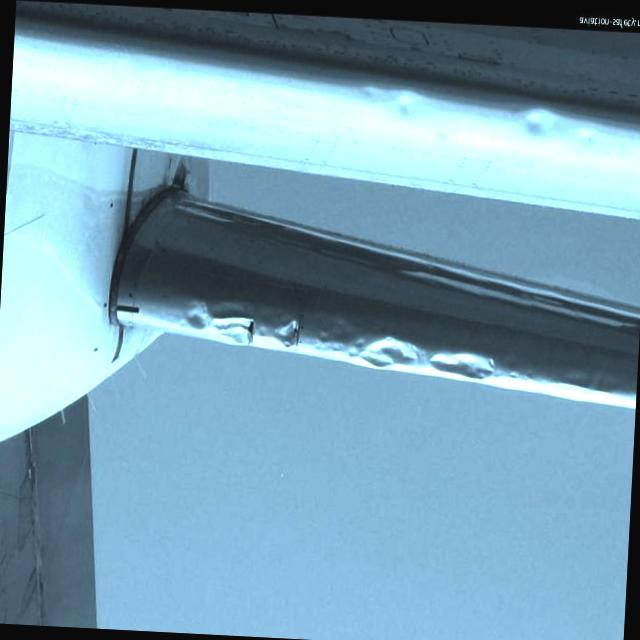dent: (181, 295, 263, 347), (356, 331, 426, 374), (424, 348, 501, 384)
